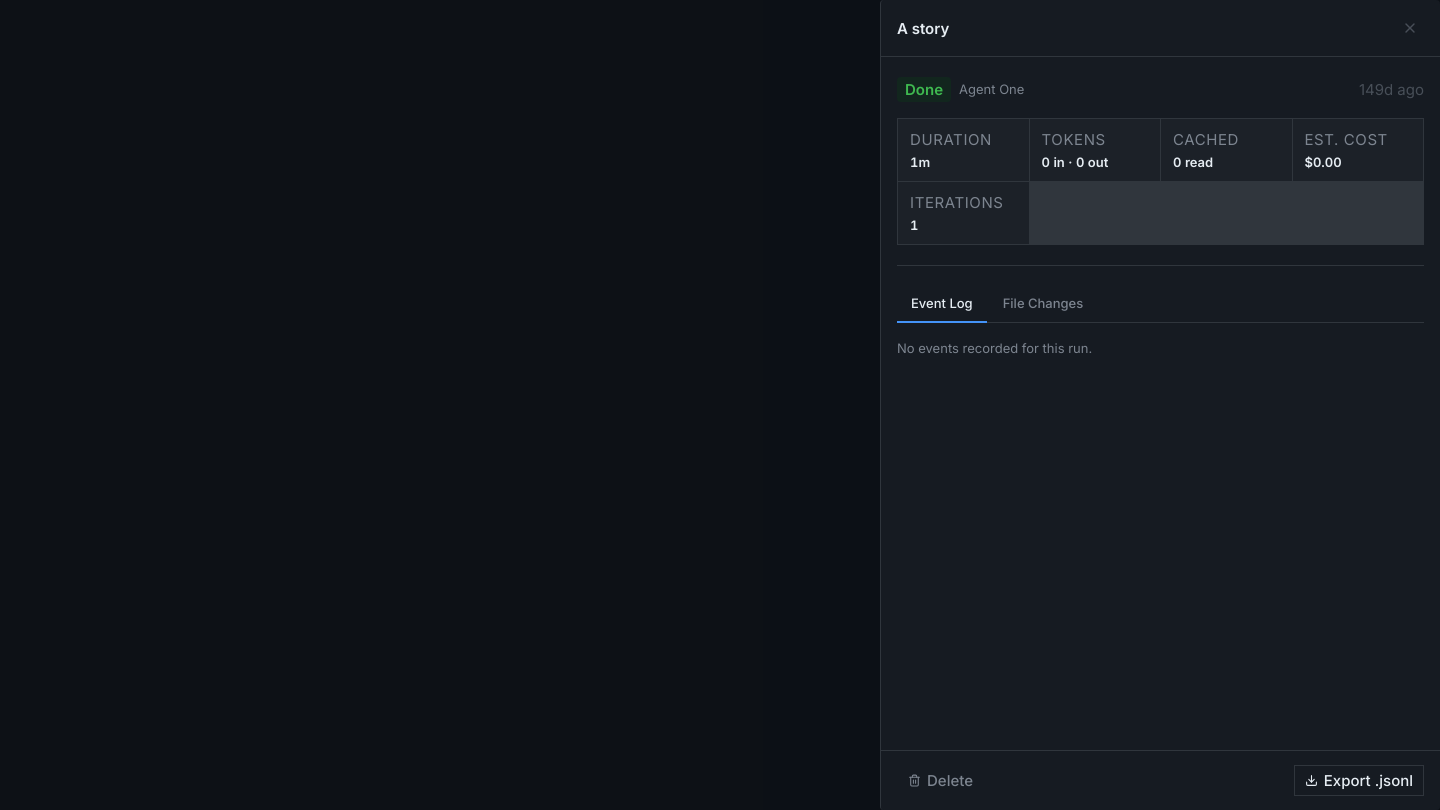
Scenario: RunDetailPanel run isolation › warns, in the run's own words, when a run wrote into the user's tree
Click the tab "File Changes". click: (1043, 304)
box: x1=989 y1=286 x2=1097 y2=323
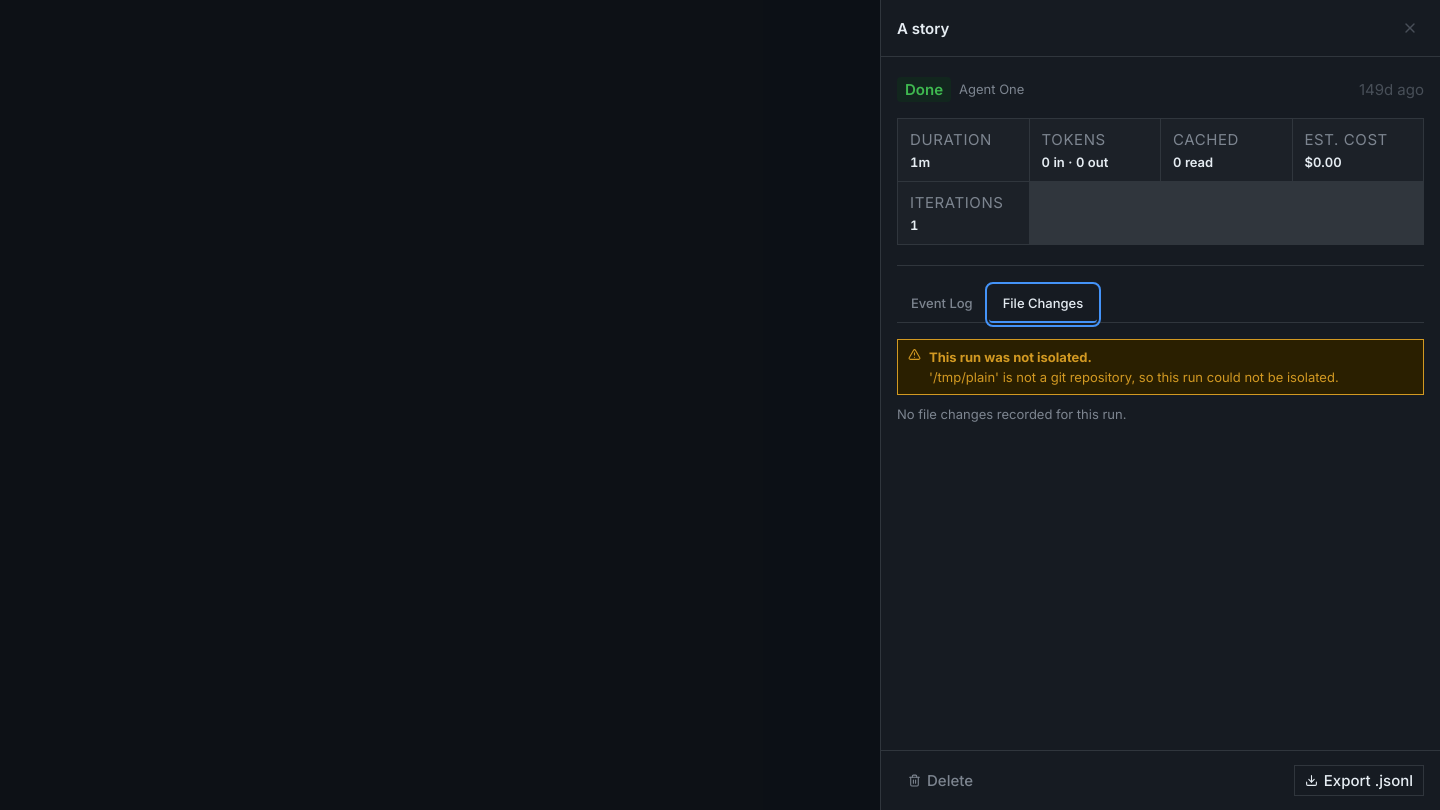
Expected: the text "This run was not isolated." is shown, x1=929 y1=349 x2=1092 y2=365
Expected: the text "not a git repository" is shown, x1=929 y1=369 x2=1339 y2=385
